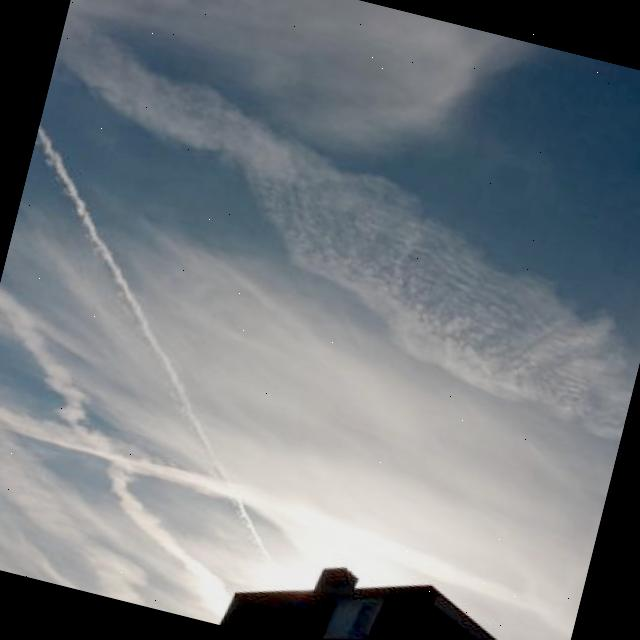Ct: (1, 3, 640, 591)
